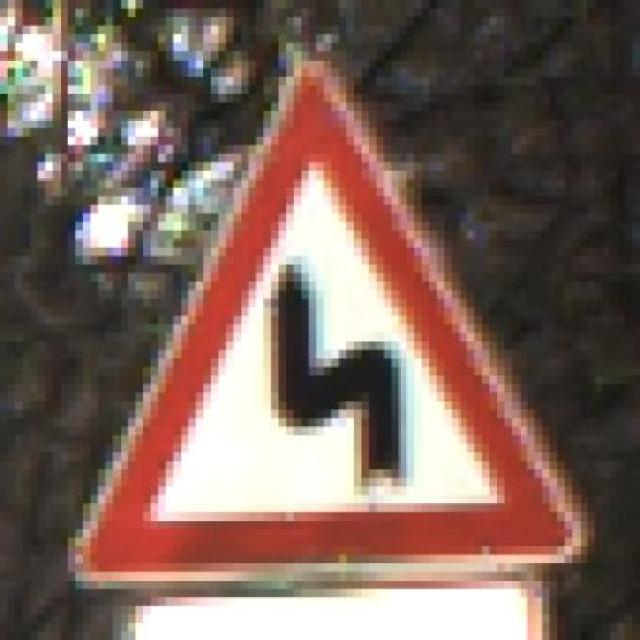Left Zig Zag Traffic: (52, 25, 588, 598)
